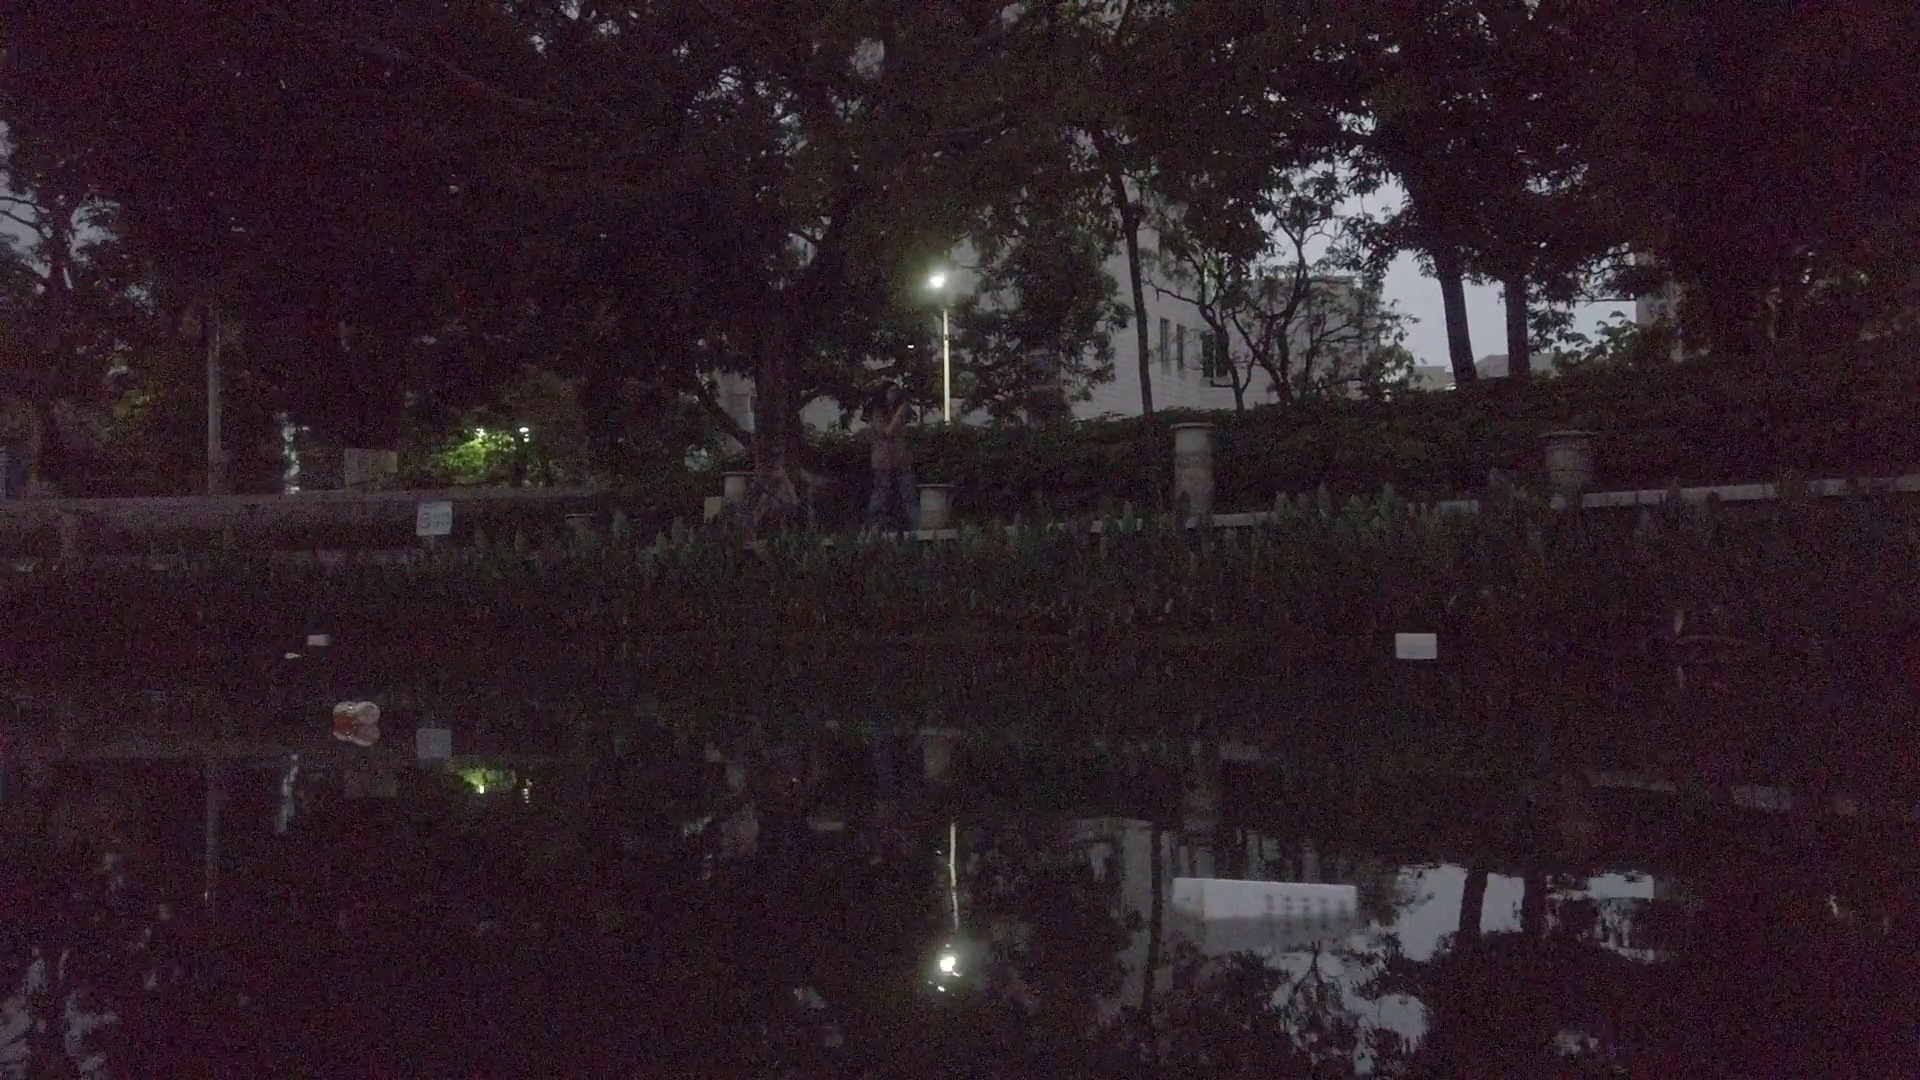bottle: (330, 702, 380, 727)
carton: (1174, 877, 1354, 936), (1393, 630, 1443, 658), (305, 633, 328, 647)
paper: (285, 649, 299, 663)
